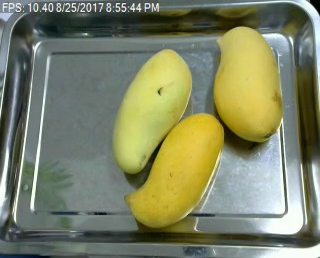Mango: (127, 112, 224, 229), (110, 49, 192, 174), (214, 25, 286, 142)
